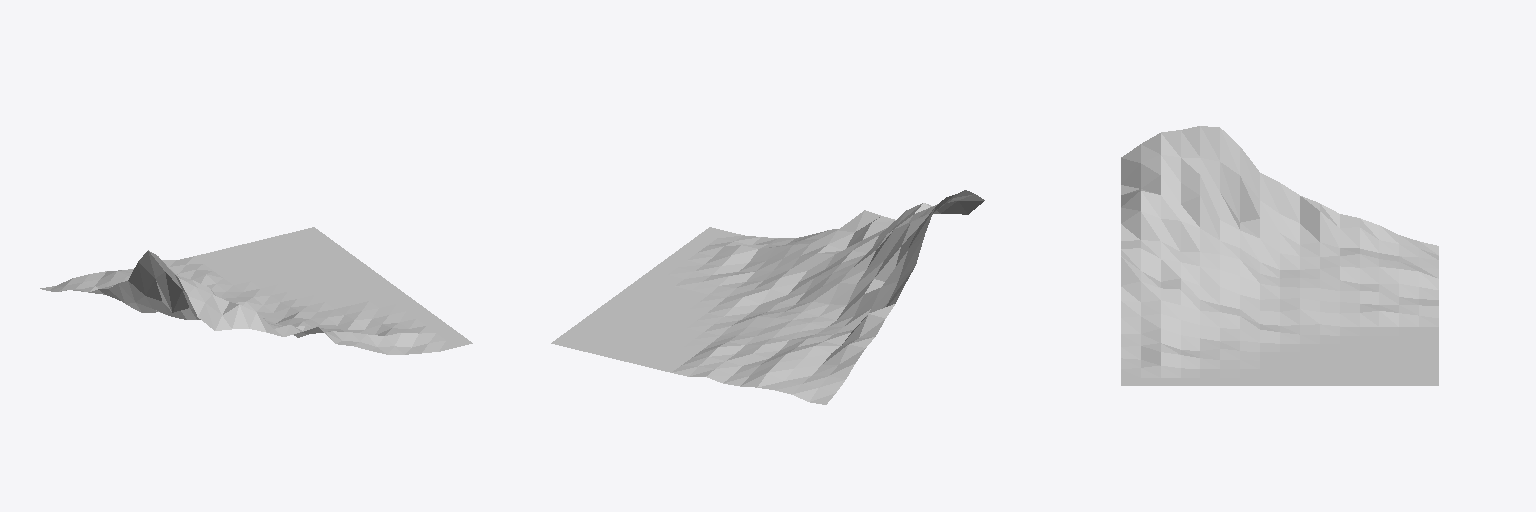
File: ExportedObj;Terrain_x5y2_0.obj
The picture shows the model from 3 angles: view 1: azimuth 30°, elevation 25°; view 2: azimuth 150°, elevation 25°; view 3: azimuth 270°, elevation 25°; orthographic projection.
Parts seen in each view (by area): view 1: Terrain_x5y2; view 2: Terrain_x5y2; view 3: Terrain_x5y2.
Part boxes in pixels (bbox=[...]): Terrain_x5y2: bbox=[40, 227, 472, 354]; Terrain_x5y2: bbox=[551, 190, 984, 404]; Terrain_x5y2: bbox=[1121, 126, 1438, 385].
Size of the model in its own units: 125 by 54.48 by 125.